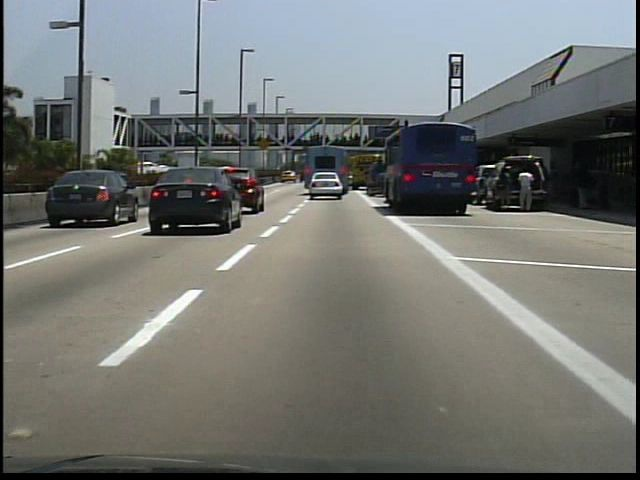person: (495, 163, 518, 218), (516, 162, 537, 215), (574, 164, 591, 211)
